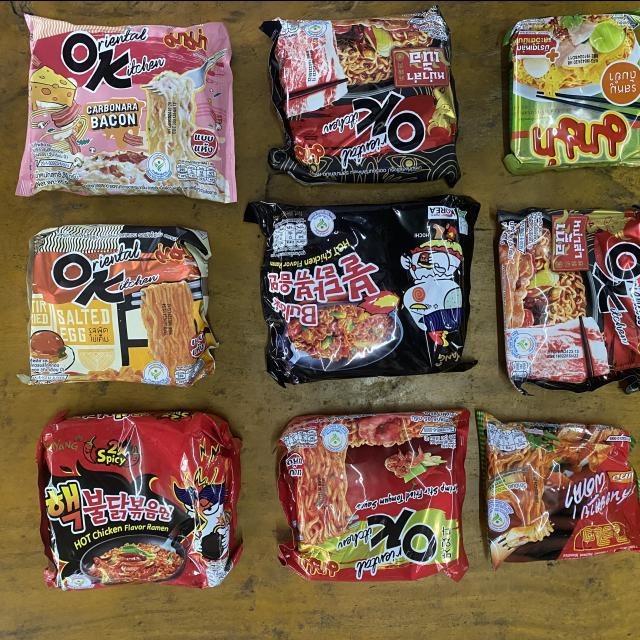plastik: (245, 194, 480, 385), (16, 13, 236, 202), (38, 411, 243, 588), (262, 5, 460, 186), (278, 409, 470, 580), (20, 224, 218, 385), (497, 207, 640, 392), (477, 411, 640, 569), (505, 8, 640, 174)
